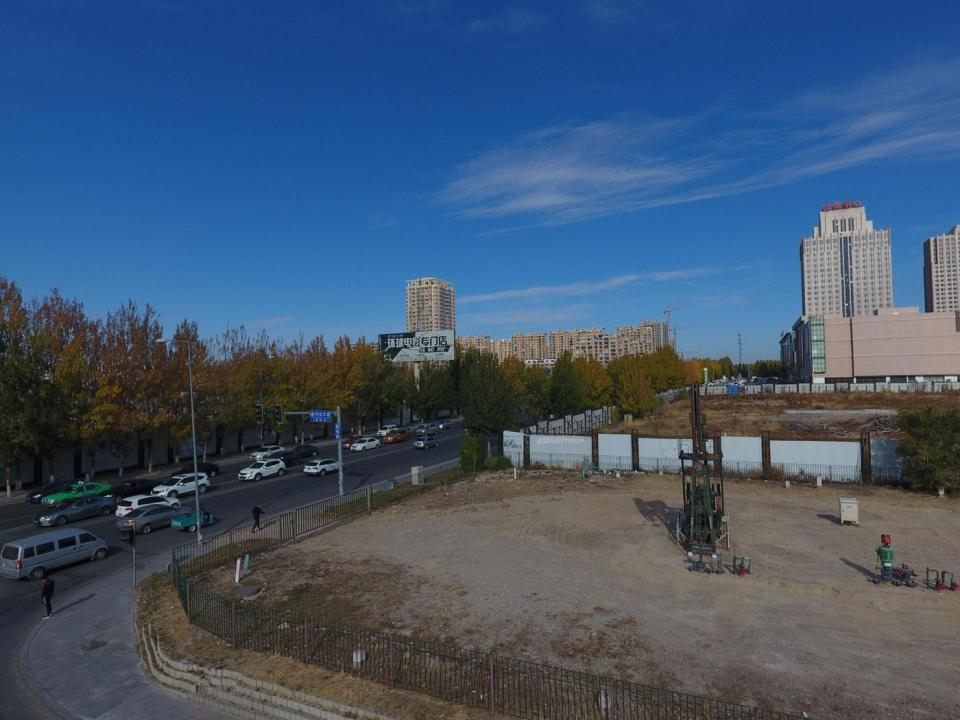car: (32, 496, 117, 528), (117, 503, 192, 534), (40, 481, 112, 506), (116, 494, 181, 521), (152, 472, 211, 499), (100, 479, 161, 502), (26, 480, 80, 503), (237, 458, 287, 480), (171, 462, 219, 480), (303, 458, 344, 477), (250, 444, 286, 461), (264, 450, 302, 466), (286, 443, 318, 458), (350, 437, 380, 451), (340, 434, 367, 449), (383, 428, 408, 442), (413, 437, 439, 449), (463, 425, 487, 436), (377, 424, 397, 436), (434, 420, 453, 430), (420, 420, 438, 430), (396, 428, 414, 437)
truck: (417, 423, 441, 436)
van: (0, 527, 109, 580)
